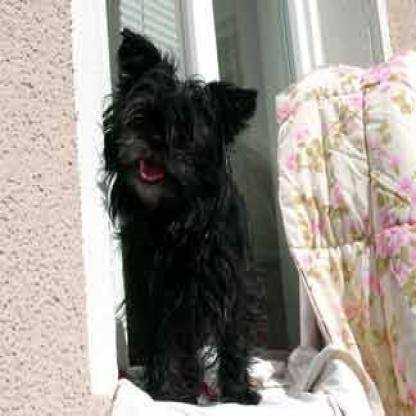affenpinscher: (90, 25, 262, 405)
